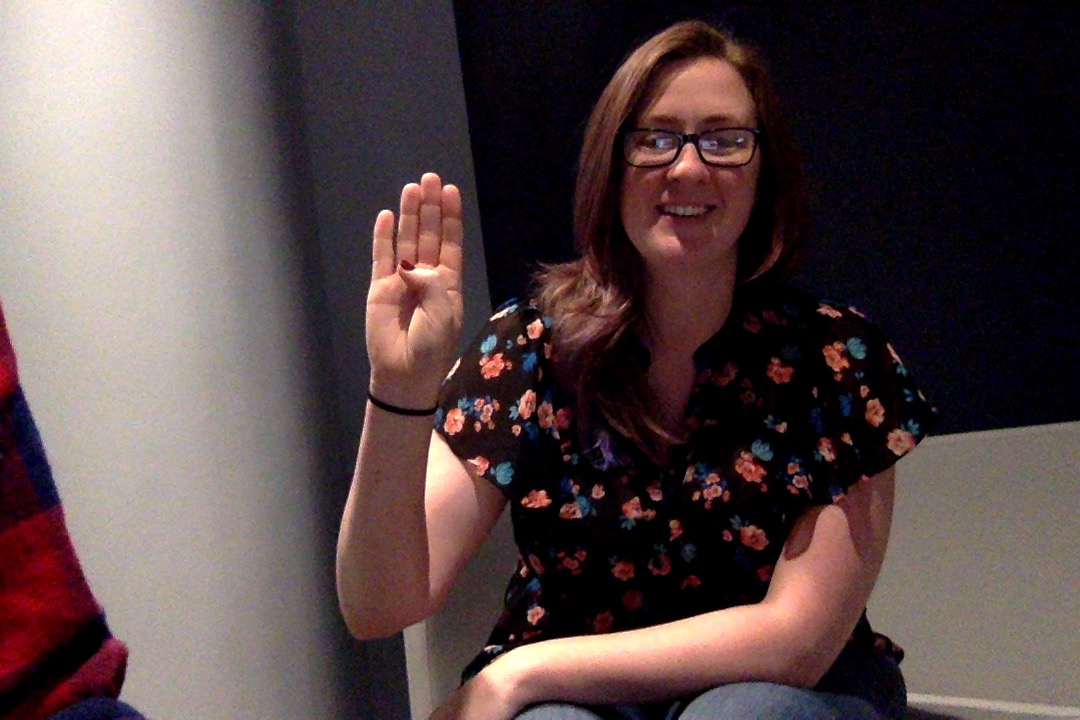b: (349, 165, 478, 423)
